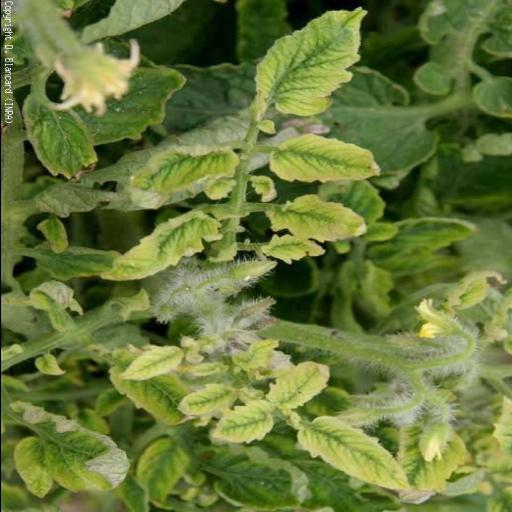disease_tomato: (250, 7, 368, 117), (4, 399, 130, 499), (288, 416, 410, 495), (99, 208, 223, 282), (125, 141, 240, 211), (19, 98, 96, 180), (264, 134, 386, 182), (276, 194, 368, 242), (261, 361, 330, 410), (116, 340, 184, 388), (206, 404, 274, 444)
